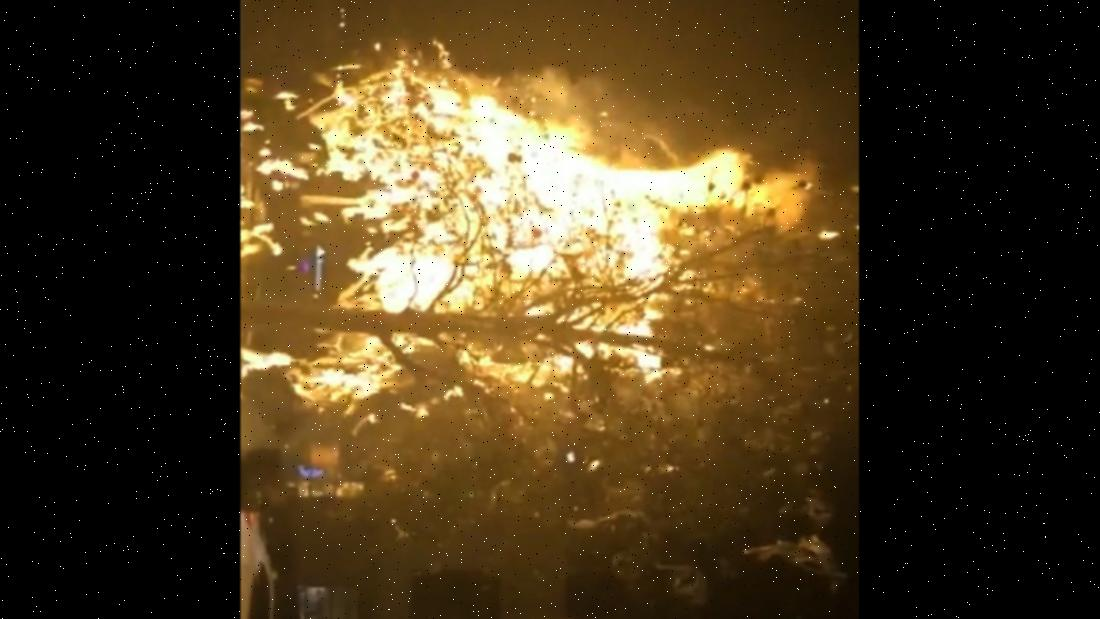fire: (240, 58, 820, 479)
